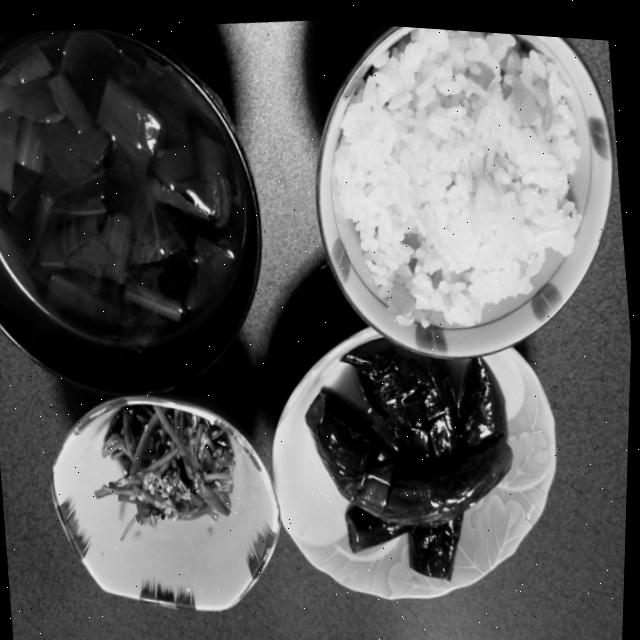米饭主食: (311, 17, 624, 354)
